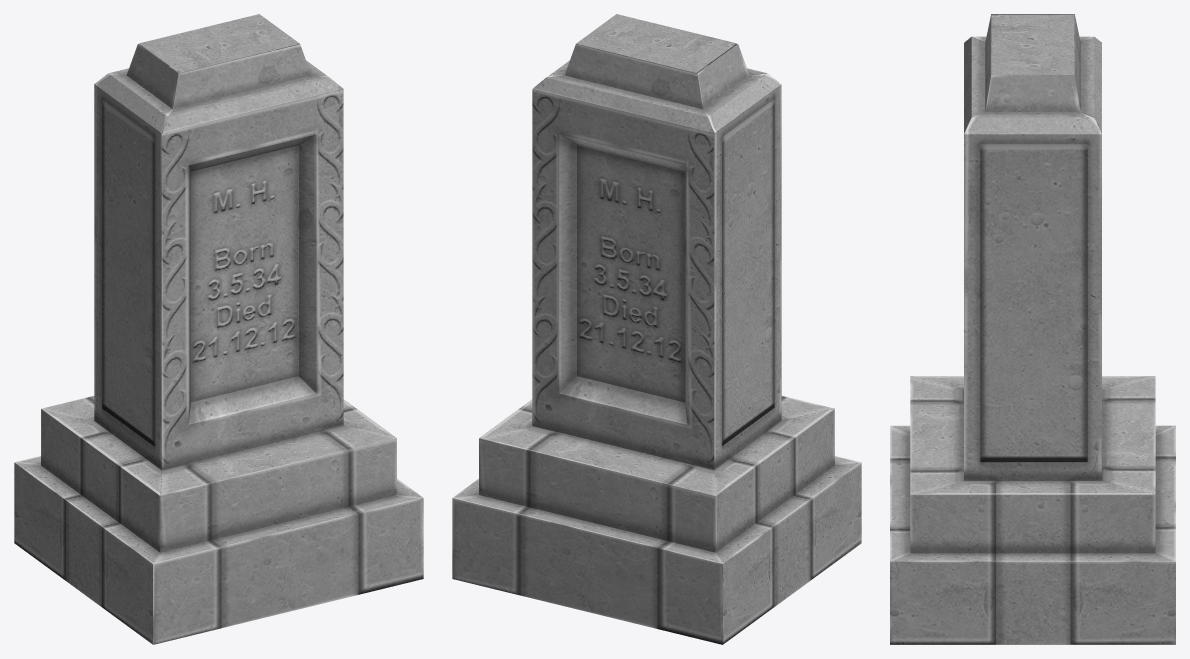
The model's file is grave5.FBX.
3 views of the same model, side by side, from view 1: azimuth 30°, elevation 25°; view 2: azimuth 150°, elevation 25°; view 3: azimuth 270°, elevation 25° (orthographic). The views are drawn at different scales.
Parts seen in each view (by area): view 1: grave5; view 2: grave5; view 3: grave5.
Part boxes in pixels (x1,y1,x2,y2): grave5: (14,14,423,644); grave5: (452,14,861,644); grave5: (890,14,1175,644).
Bounding box in the file's own units: 35 × 63.94 × 31.1.
